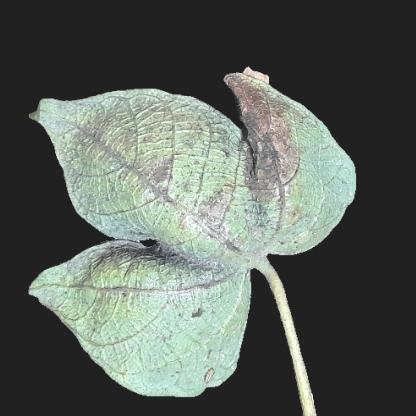curl_stage2: (110, 307, 190, 384), (189, 289, 251, 353), (303, 156, 343, 212)
sooty: (66, 100, 150, 184), (157, 155, 241, 225), (147, 244, 235, 288), (247, 116, 283, 197)
